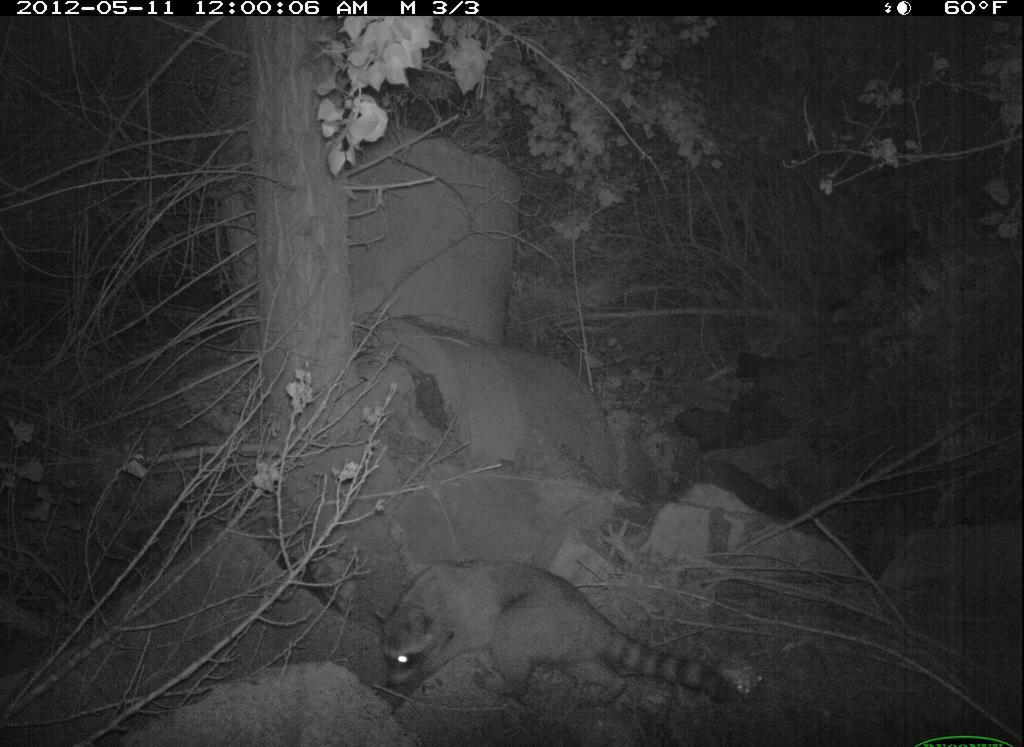raccoon: (373, 548, 754, 727)
